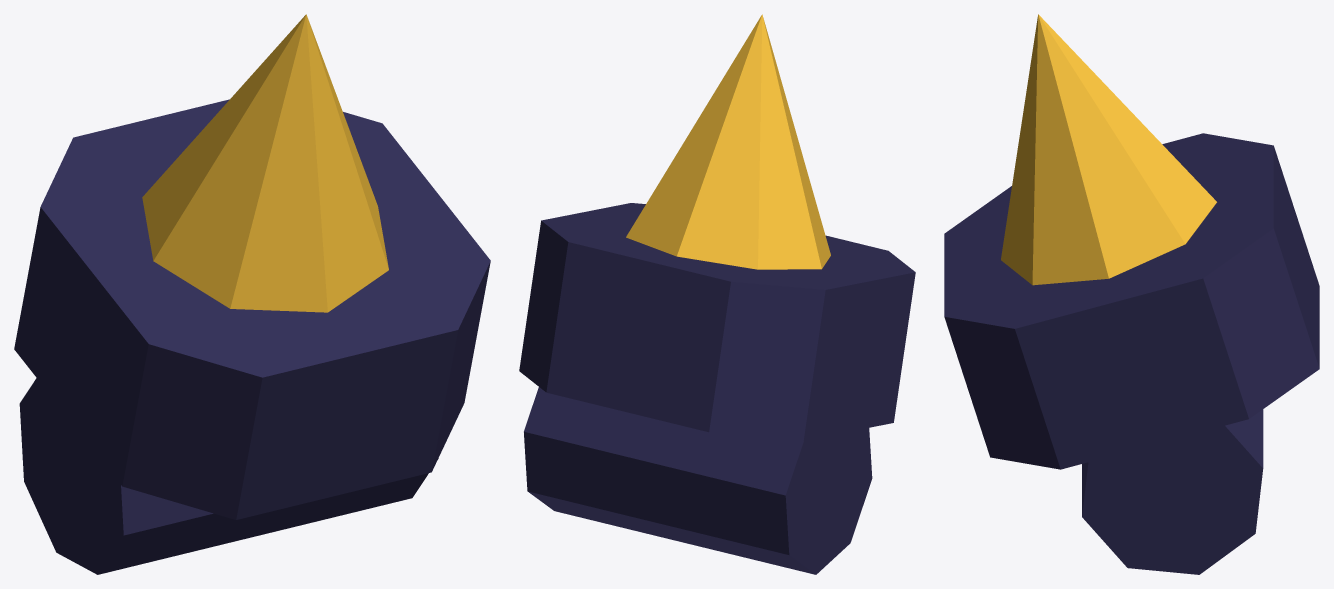
Rendered from Drill 2.fbx.
The picture shows the model from 3 angles, left to right: view 1: azimuth 30°, elevation 25°; view 2: azimuth 150°, elevation 25°; view 3: azimuth 270°, elevation 25°; orthographic projection. The views are drawn at different scales.
Visible parts, largest first — view 1: Drill 2; view 2: Drill 2; view 3: Drill 2.
Part boxes in pixels (box(x1,y1,x2,y2)): Drill 2: box(14, 14, 490, 574); Drill 2: box(519, 14, 915, 574); Drill 2: box(944, 14, 1319, 574).
Size of the model in its own units: 2.7 by 4.29 by 2.95.
